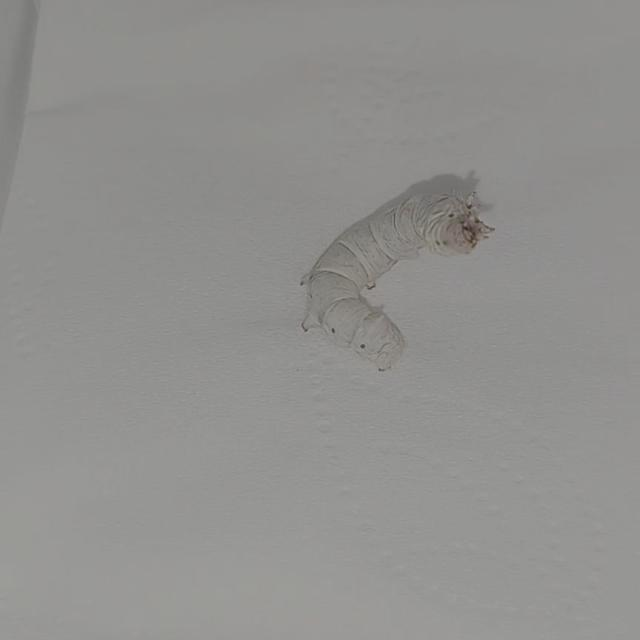Healthy: (282, 119, 528, 410)
